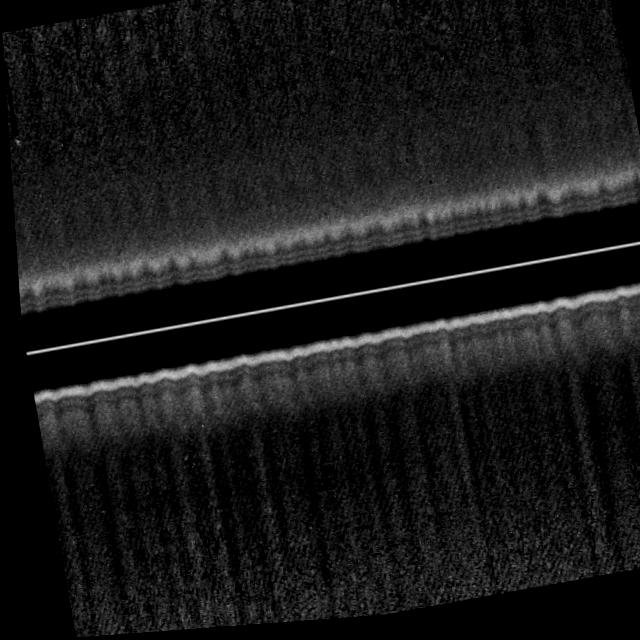mine: (3, 62, 23, 154)
